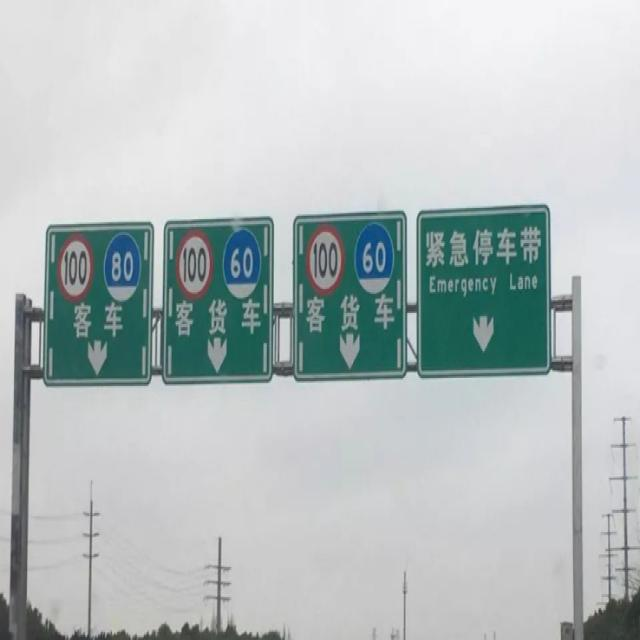speed limit 100: (306, 225, 344, 298), (176, 230, 212, 301), (58, 235, 94, 302)
speed limit 60: (353, 220, 395, 295), (223, 229, 262, 300)
speed limit 80: (103, 232, 141, 304)
